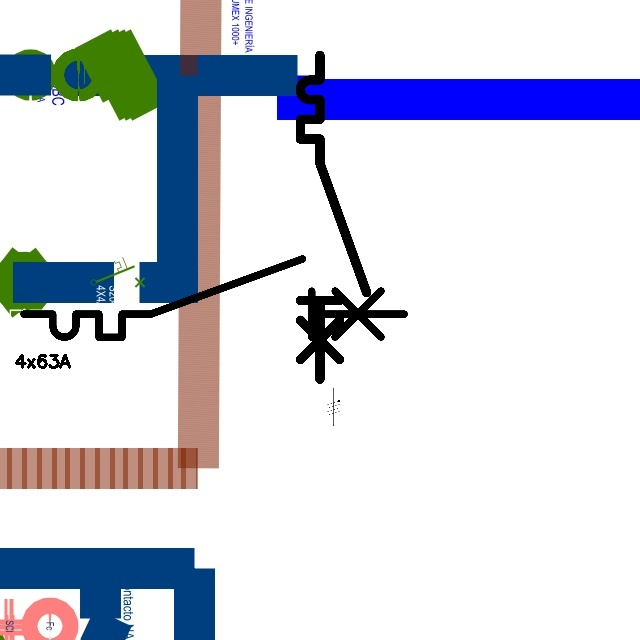interruptor_termomagnetico: (14, 249, 414, 347), (292, 47, 375, 388)
